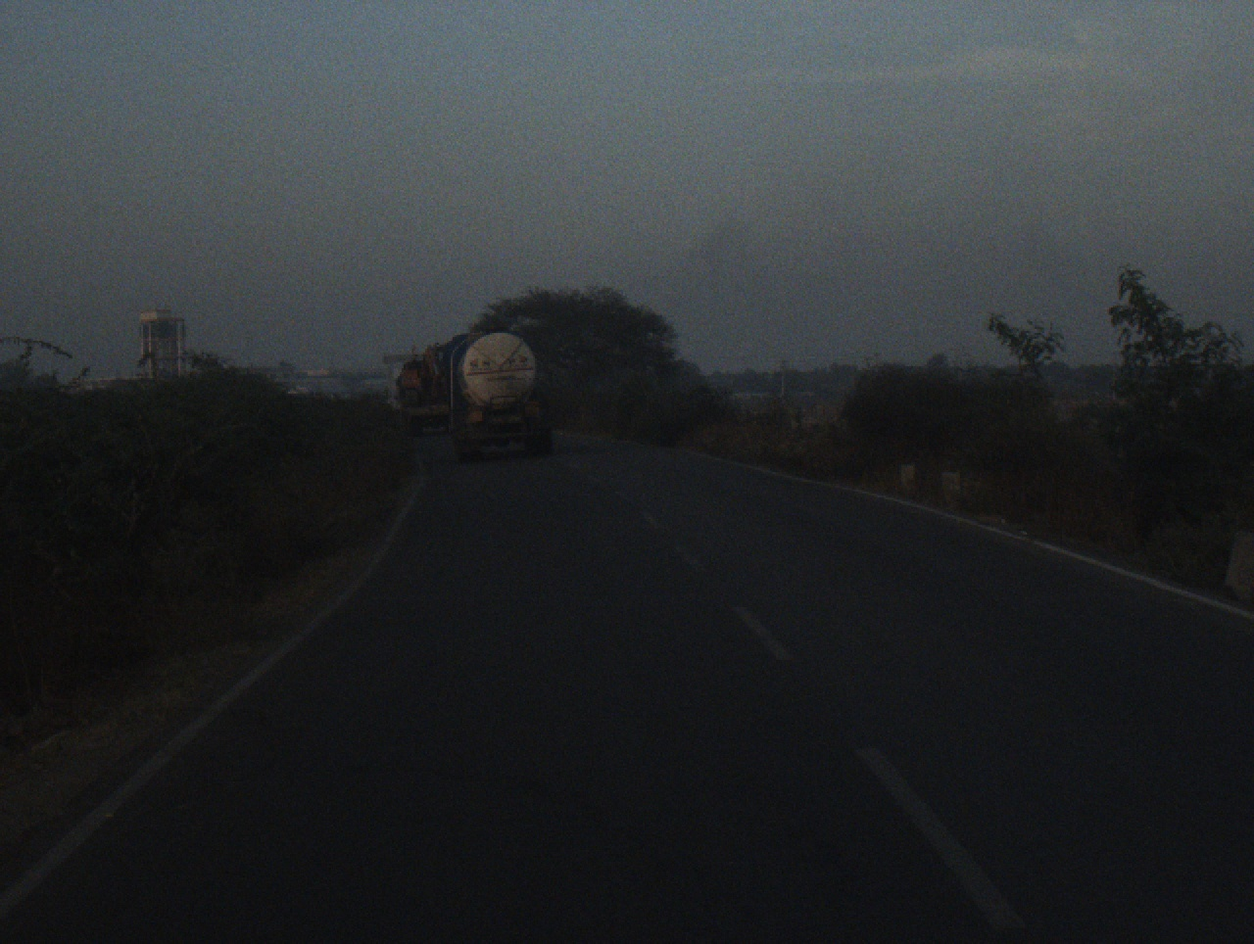truck: (436, 327, 561, 481)
vehicle fallback: (381, 345, 459, 444)
